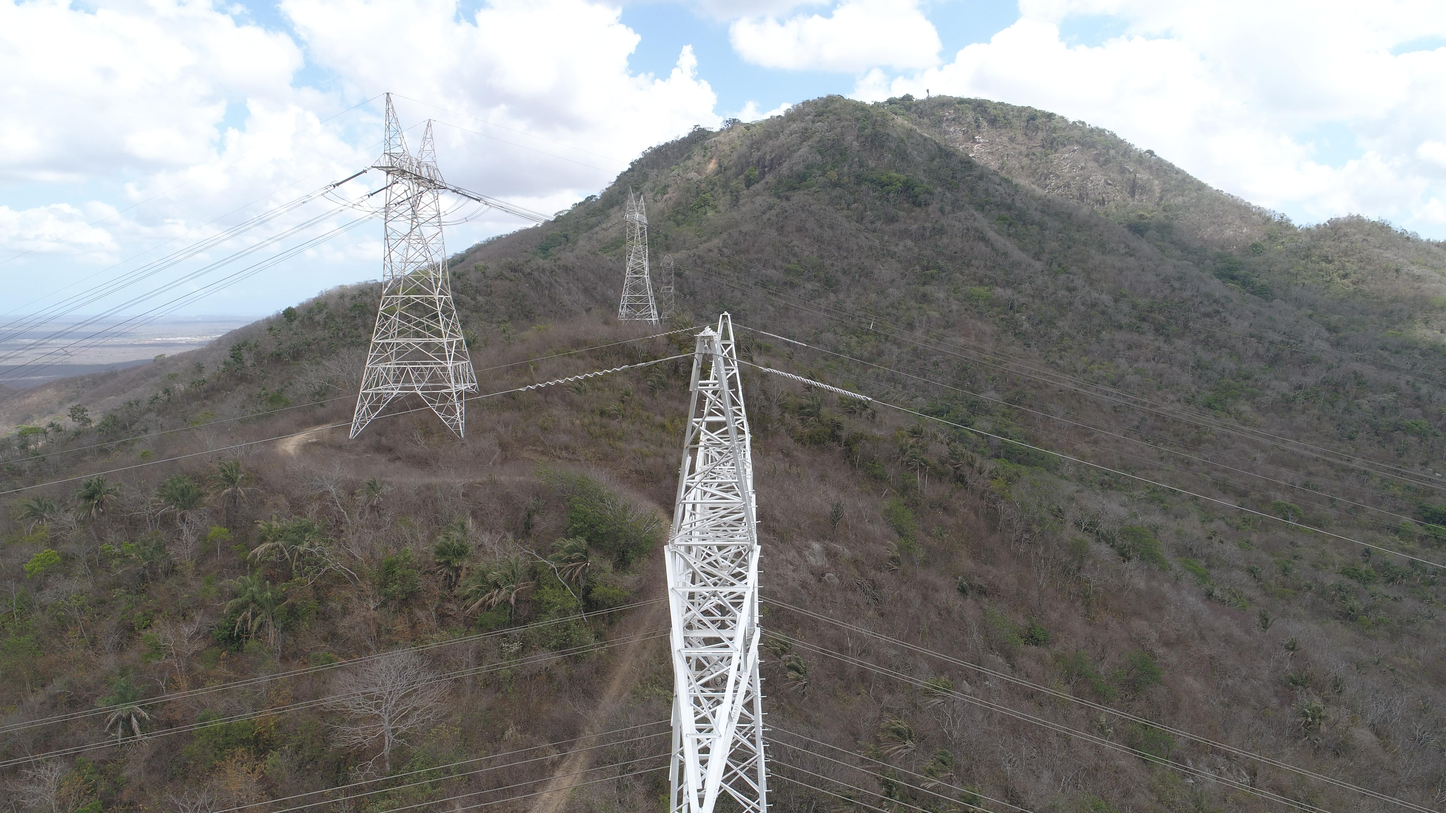power_tower: (663, 313, 783, 813), (327, 91, 491, 443), (613, 184, 659, 328)
